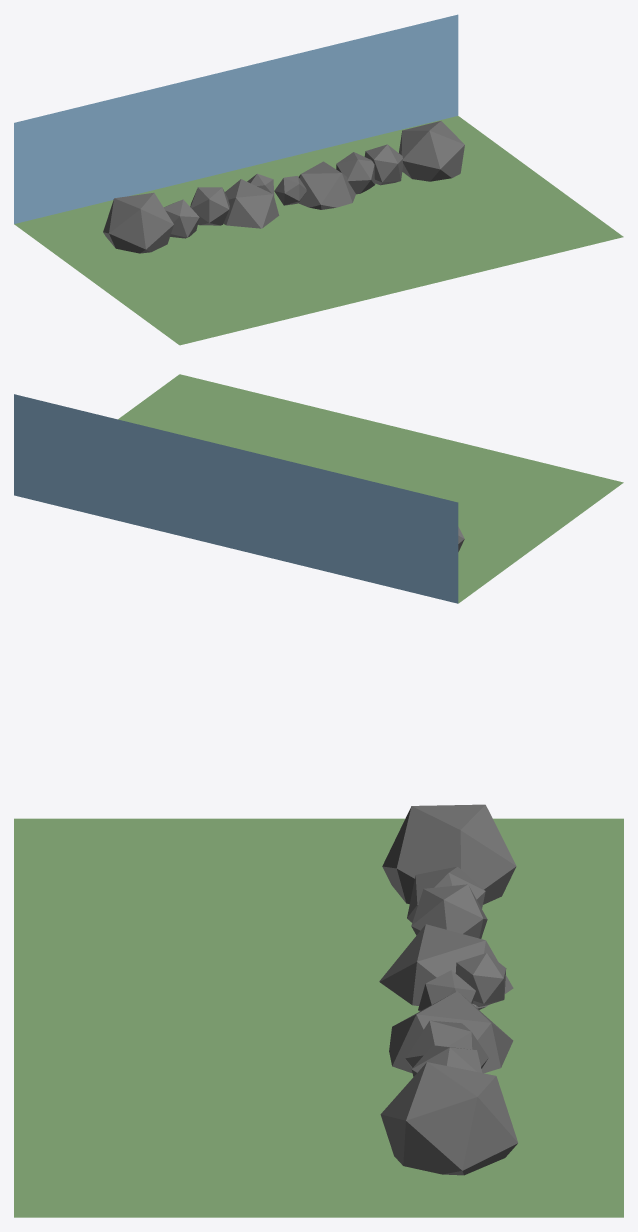
File: Level_Basic.fbx
3 views of the same model, one above another, from view 1: azimuth 30°, elevation 25°; view 2: azimuth 150°, elevation 25°; view 3: azimuth 270°, elevation 25° (orthographic). The views are drawn at different scales.
Visible parts, largest first — view 1: Floor, Background, Rocks; view 2: Background, Floor; view 3: Floor, Rocks.
Boxes of the visible parts, x1,y1,x2,y2 form: Floor: [14, 116, 623, 345]; Background: [14, 14, 458, 223]; Rocks: [103, 121, 464, 253]; Background: [14, 394, 458, 603]; Floor: [118, 374, 623, 603]; Floor: [14, 818, 623, 1217]; Rocks: [379, 804, 517, 1175].
Size of the model in its own units: 126 by 36.45 by 81.09.
